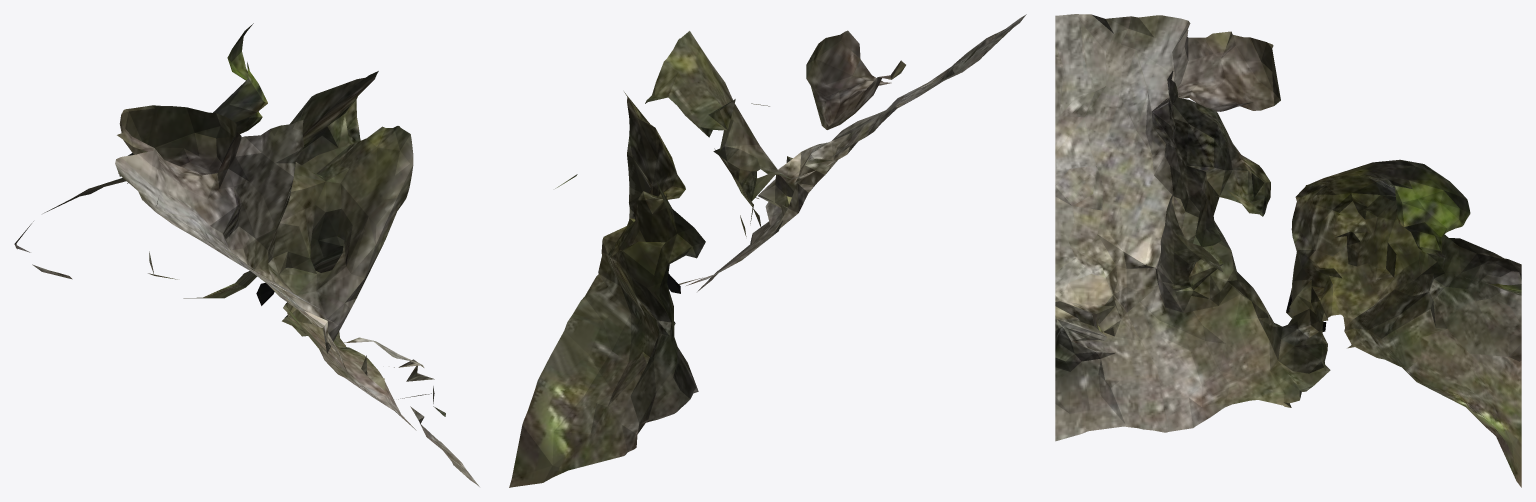
The picture shows the model from 3 angles, left to right: view 1: azimuth 30°, elevation 25°; view 2: azimuth 150°, elevation 25°; view 3: azimuth 270°, elevation 25°; orthographic projection. The views are drawn at different scales.
Bounding box in the file's own units: 3.86 × 4.82 × 5.9.
Materials: 3 (3 with a texture image).
